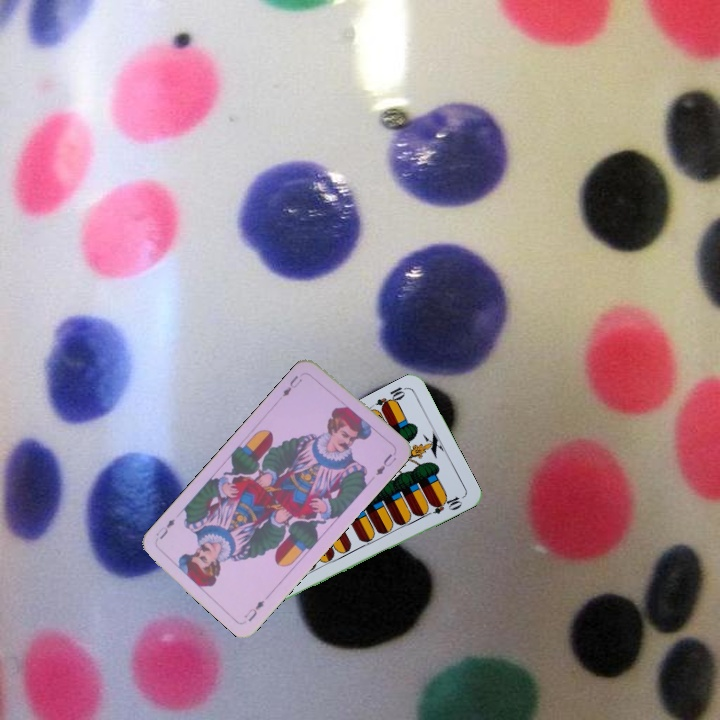E10: (372, 383, 410, 413)
EU: (278, 371, 305, 400), (240, 596, 267, 624)
